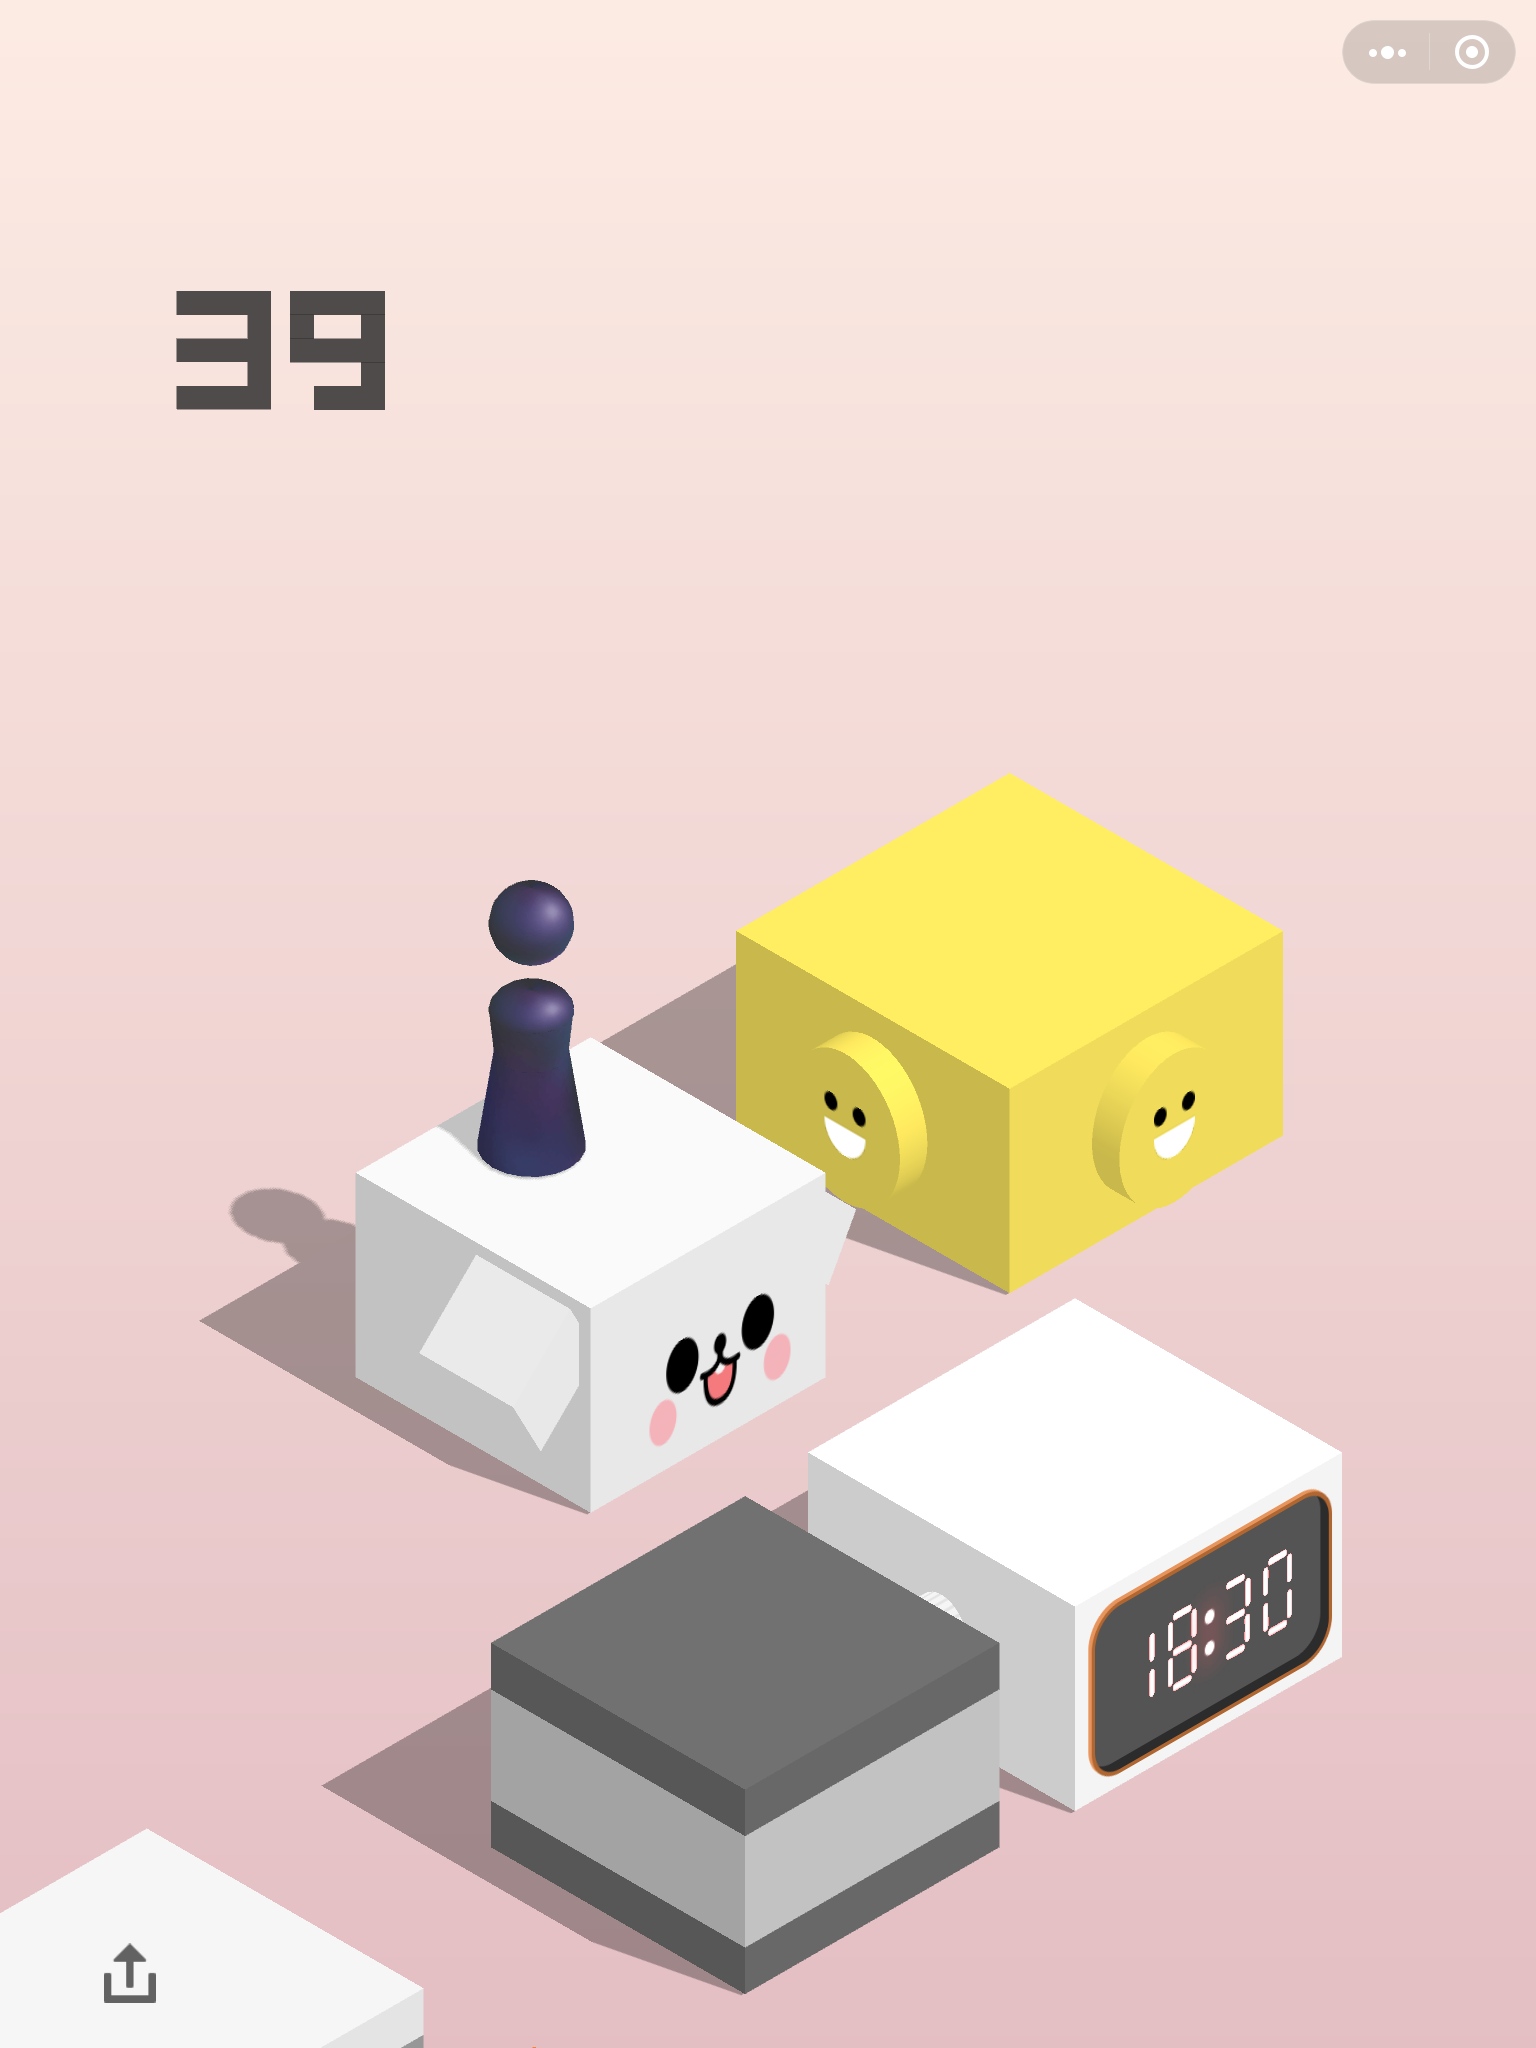f: (729, 764, 1291, 1297), (803, 1292, 1349, 1819), (482, 1495, 1007, 2000), (352, 1034, 857, 1517), (2, 1825, 431, 2048)
r: (473, 872, 591, 1184)
